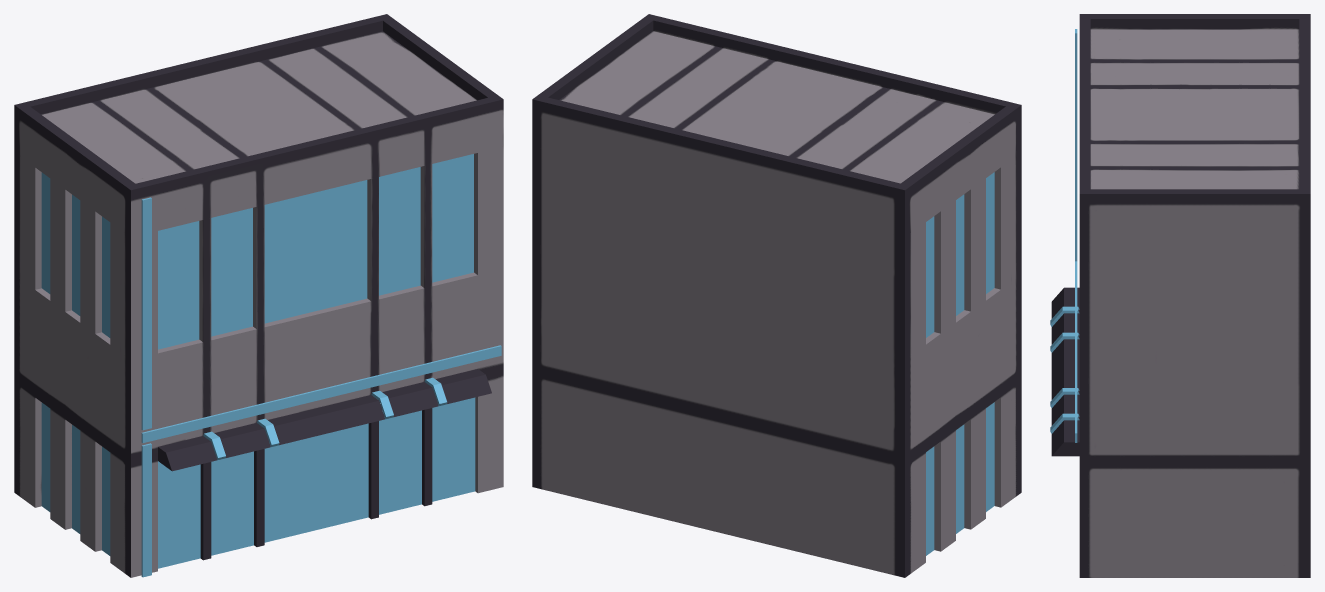
Rendered from PharmacureBuilding.obj.
3 renders of one model, left to right at view 1: azimuth 30°, elevation 25°; view 2: azimuth 150°, elevation 25°; view 3: azimuth 270°, elevation 25°, orthographic.
Parts seen in each view (by area): view 1: Cube.003_Cube.002; view 2: Cube.003_Cube.002; view 3: Cube.003_Cube.002.
Part boxes in pixels (left/top/right/bottom): Cube.003_Cube.002: left=14, top=14, right=503, bottom=577; Cube.003_Cube.002: left=532, top=14, right=1021, bottom=577; Cube.003_Cube.002: left=1050, top=14, right=1310, bottom=577.
Bounding box in the file's own units: 11.3 × 11.23 × 6.9.
Materials: 4 (4 with a texture image).
